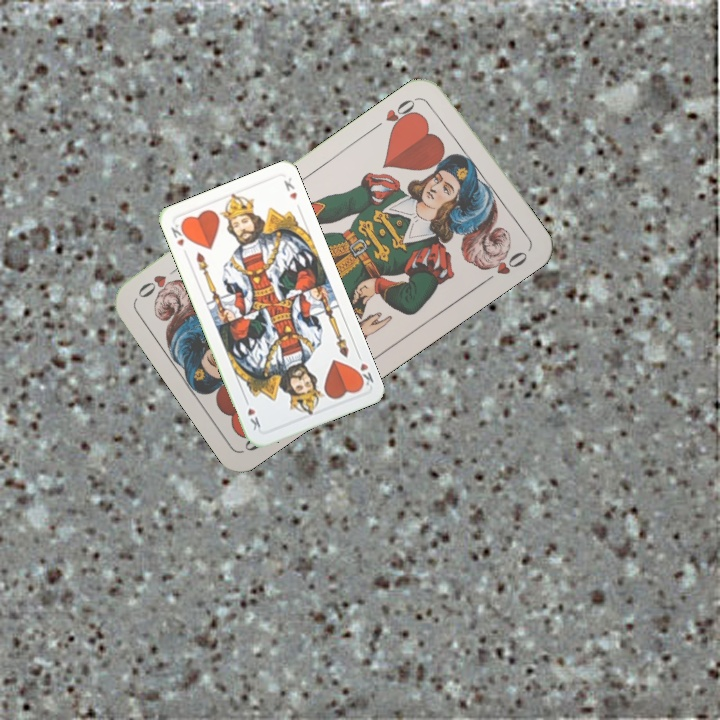HK: (351, 359, 376, 389), (167, 219, 191, 249)
HO: (370, 92, 423, 135)
